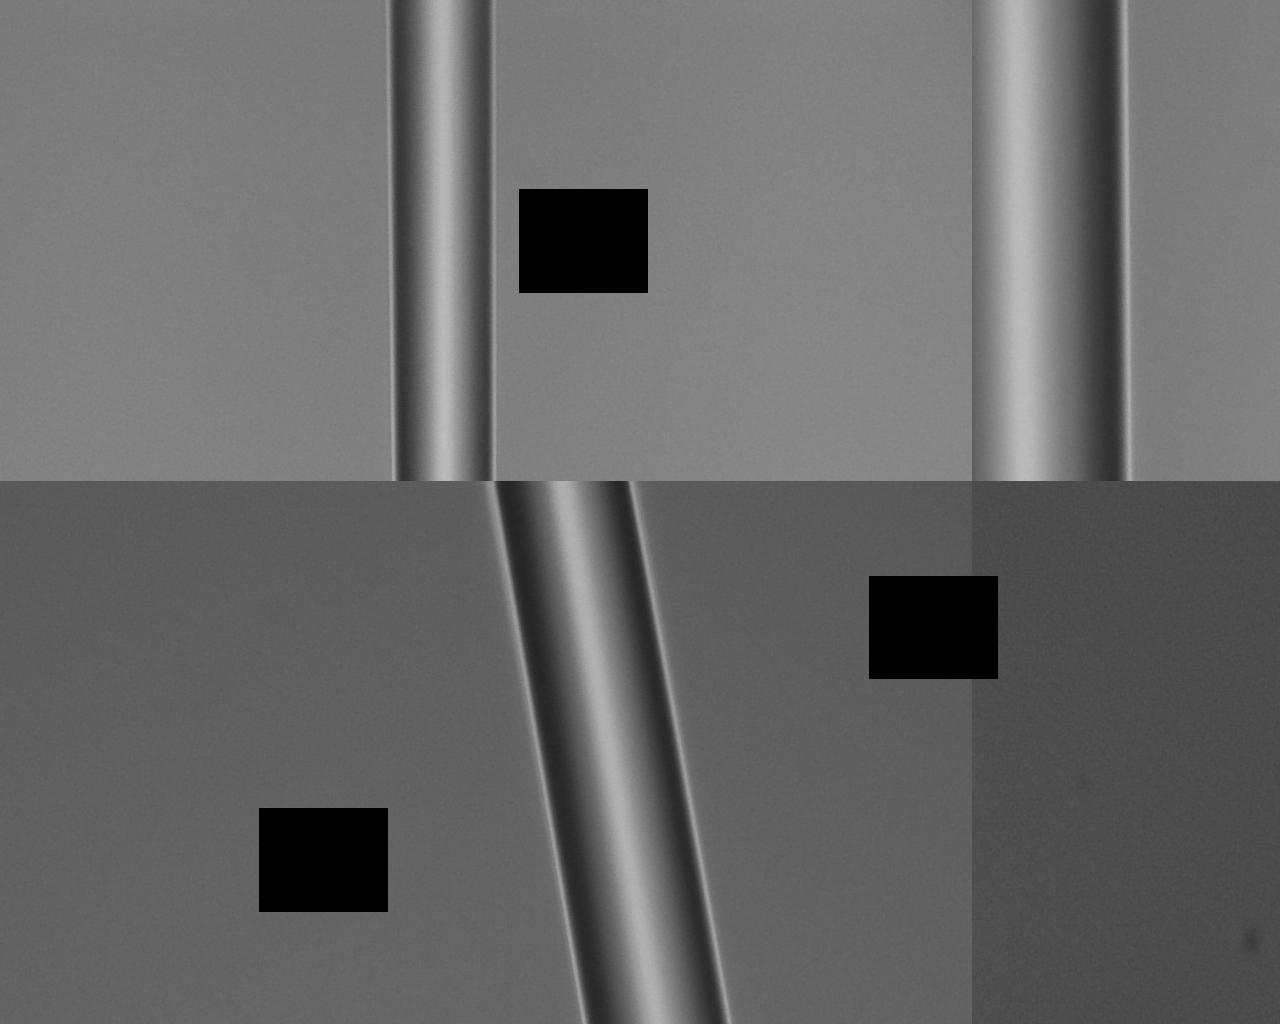fiber: (755, 276, 1026, 954), (0, 276, 223, 1024), (1020, 0, 1089, 276)
